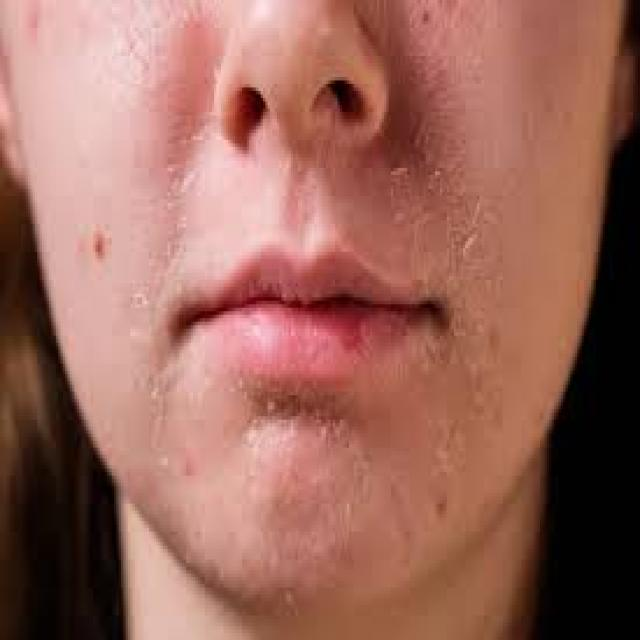flakiness: (387, 164, 483, 280)
